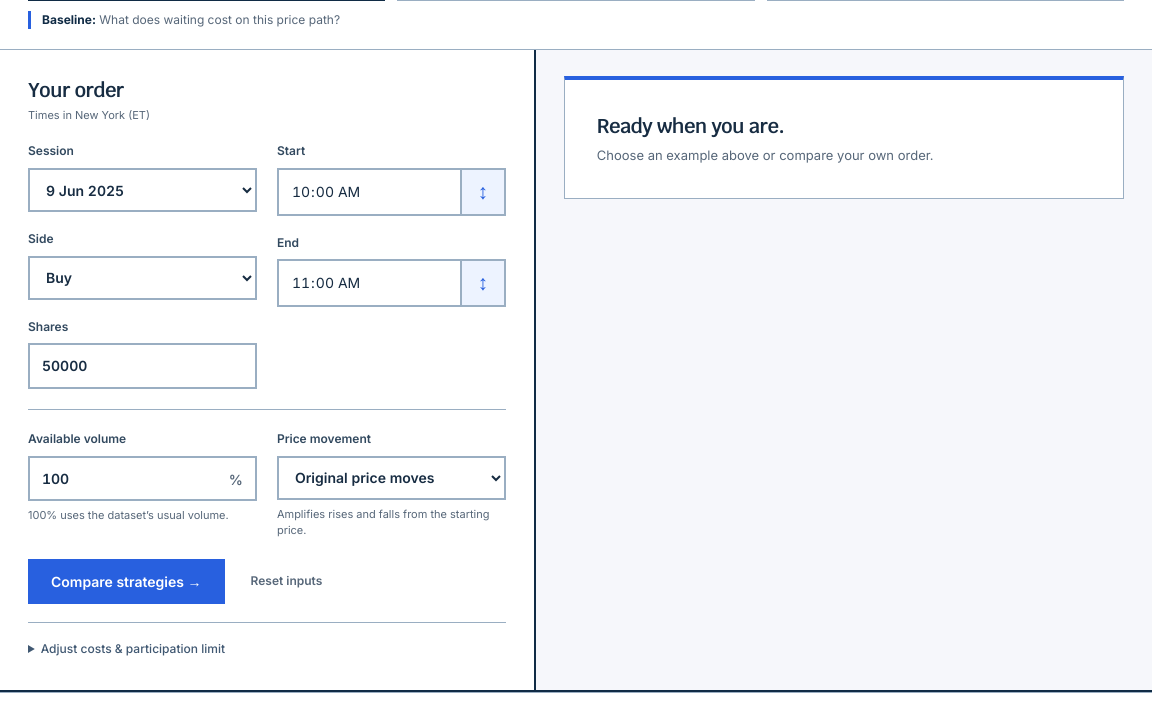
Test case: blocks invalid quantities before comparison
(page scrolled)
Check: the button "Compare strategies →" is enabled, box [28, 558, 224, 604]
Replace the text in the number field labelled "Shares" with "0": (142, 366) [28, 343, 257, 389]
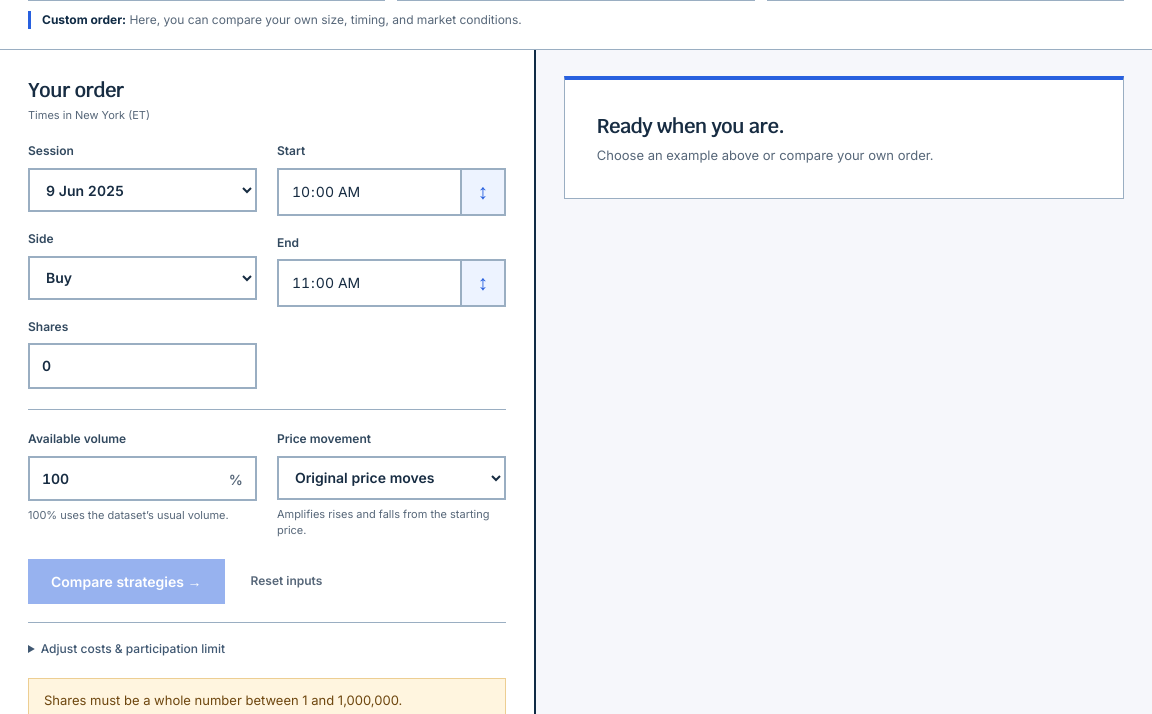
Check: the button "Compare strategies →" is disabled, box [28, 558, 224, 604]
